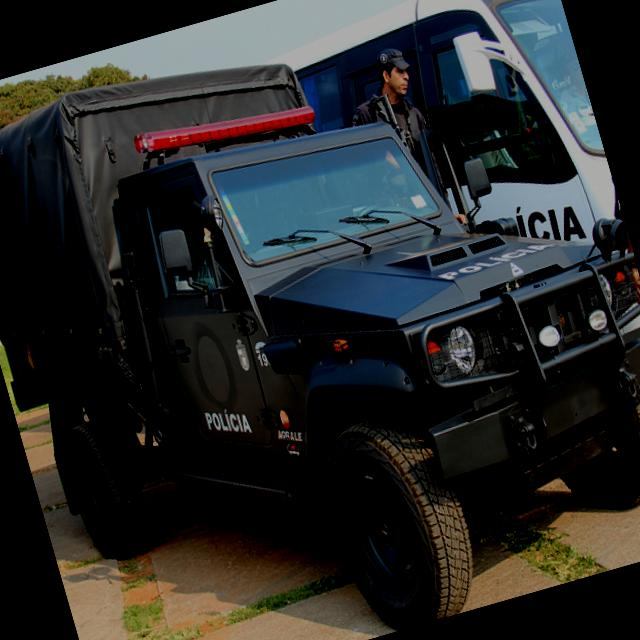Vehicle: (0, 0, 640, 640), (267, 0, 627, 311)
